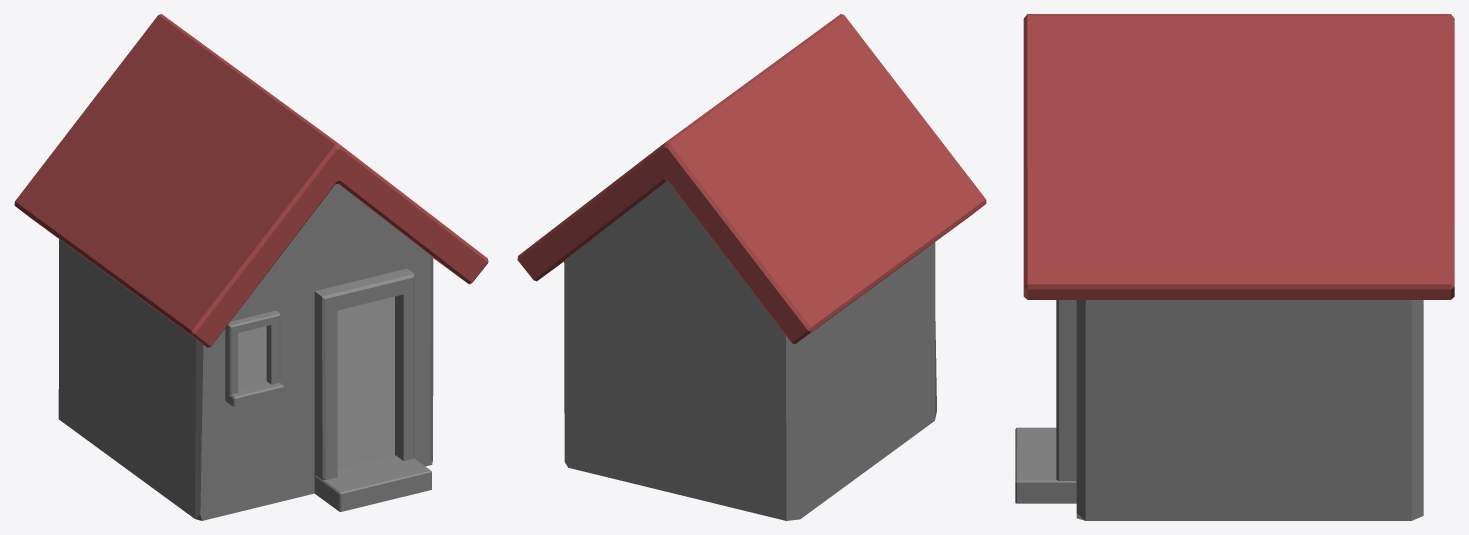
The model's file is Building01.fbx.
3 renders of one model, left to right at view 1: azimuth 30°, elevation 25°; view 2: azimuth 150°, elevation 25°; view 3: azimuth 270°, elevation 25°, orthographic. The views are drawn at different scales.
Parts seen in each view (by area): view 1: polySurface27; view 2: polySurface27; view 3: polySurface27.
Boxes of the visible parts, x1,y1,x2,y2 form: polySurface27: [14, 14, 488, 520]; polySurface27: [517, 14, 986, 520]; polySurface27: [1015, 14, 1454, 520].
Size of the model in its own units: 1.18 by 1.38 by 1.27.
